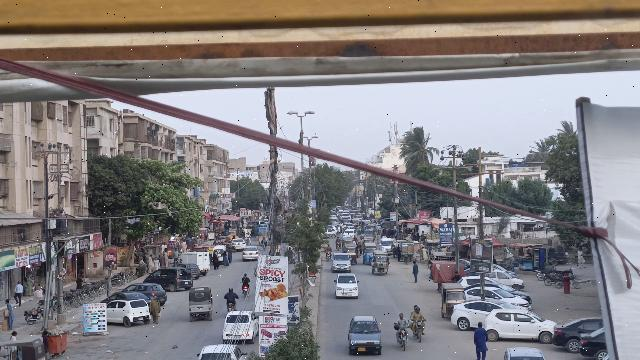Bike: (396, 326, 412, 353), (412, 318, 428, 342), (223, 301, 237, 313), (241, 283, 250, 297)
Car: (484, 308, 559, 342), (553, 315, 605, 353), (464, 286, 532, 310), (347, 315, 383, 355), (221, 310, 259, 345), (105, 299, 152, 326), (144, 267, 193, 289), (579, 325, 607, 359), (195, 343, 247, 360), (333, 272, 361, 299), (330, 252, 352, 273)
Person: (471, 321, 491, 360), (149, 294, 163, 325), (5, 296, 15, 331), (409, 259, 421, 284), (14, 278, 24, 306), (395, 311, 410, 329), (413, 302, 425, 322), (224, 286, 240, 301), (240, 272, 251, 284)
Rickshaw: (186, 285, 215, 322), (439, 282, 464, 320), (370, 250, 390, 276)
Truck: (179, 251, 210, 276)
